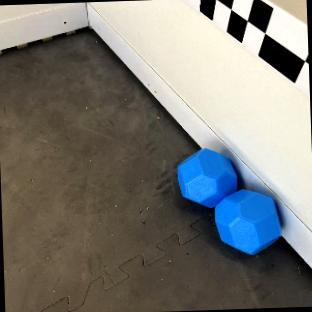V5_BLUE: (215, 190, 281, 254), (178, 149, 237, 206)
pieces: (175, 146, 282, 255)
